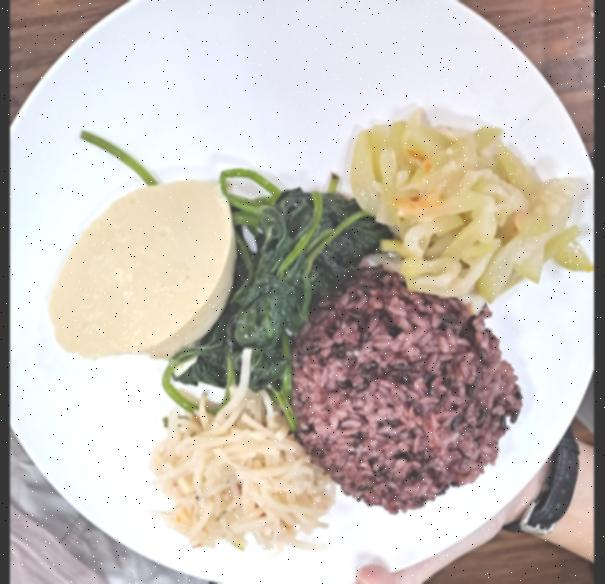plate: (17, 0, 592, 584)
purple rice: (293, 272, 521, 514)
side dish: (337, 105, 594, 296), (38, 160, 246, 382), (146, 385, 330, 558), (208, 180, 355, 382)
